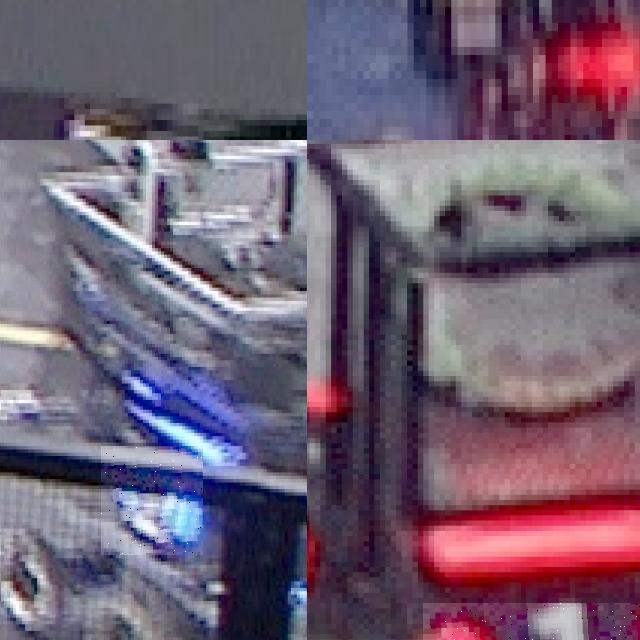B2: (101, 446, 203, 555)
R1: (423, 603, 640, 640)
